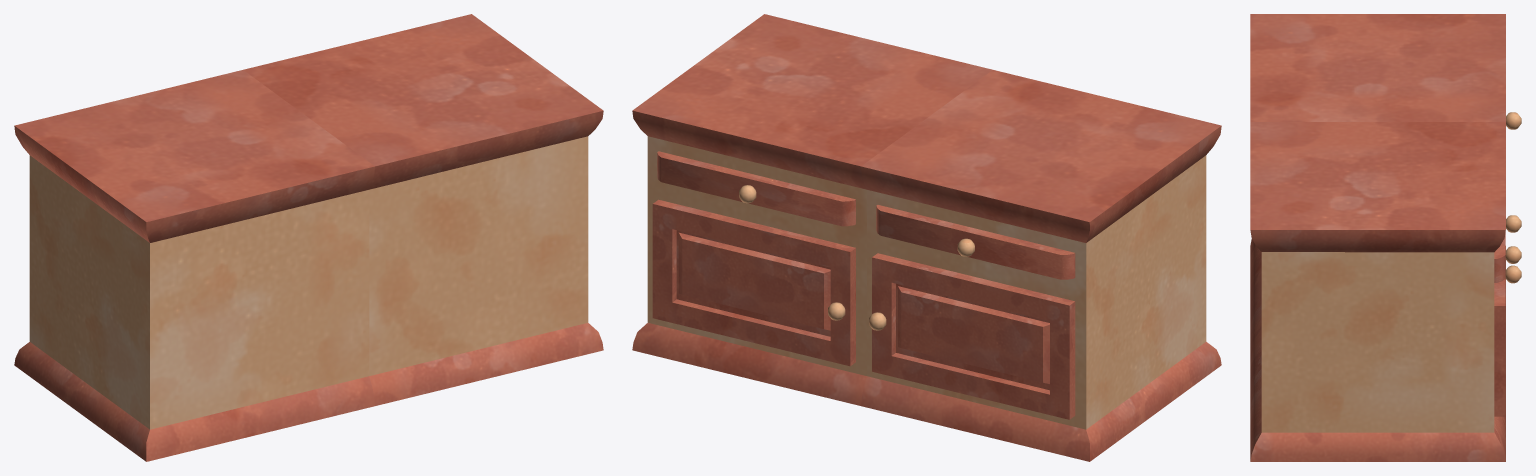
File: SM_Medium_Chest.fbx
3 renders of one model, left to right at view 1: azimuth 30°, elevation 25°; view 2: azimuth 150°, elevation 25°; view 3: azimuth 270°, elevation 25°, orthographic. The views are drawn at different scales.
Parts seen in each view (by area): view 1: SM_Medium_Chest; view 2: SM_Medium_Chest; view 3: SM_Medium_Chest.
Boxes of the visible parts, bbox=[...] form: SM_Medium_Chest: bbox=[14, 14, 603, 461]; SM_Medium_Chest: bbox=[632, 14, 1221, 461]; SM_Medium_Chest: bbox=[1250, 14, 1521, 461].
Size of the model in its own units: 200 by 100 by 106.
